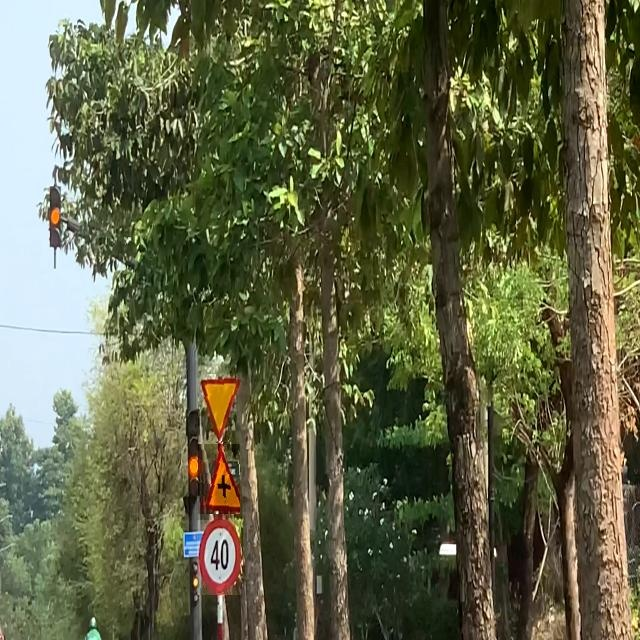bien_cam: (197, 520, 241, 595), (198, 374, 242, 444), (198, 444, 240, 514)
